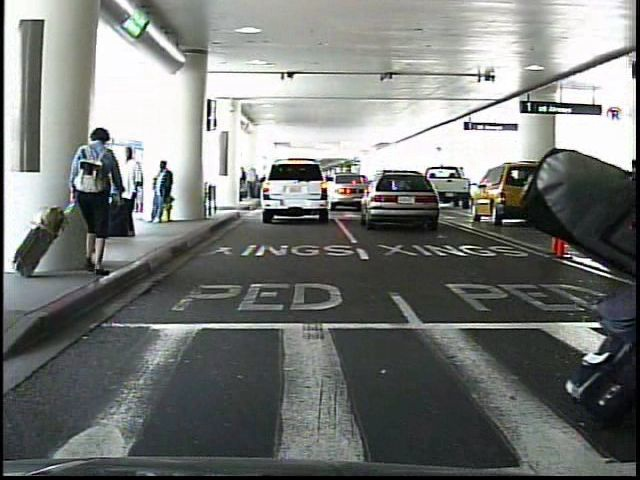person: (72, 126, 121, 279), (150, 162, 177, 229), (123, 146, 141, 239), (574, 165, 589, 213), (589, 167, 603, 211)
